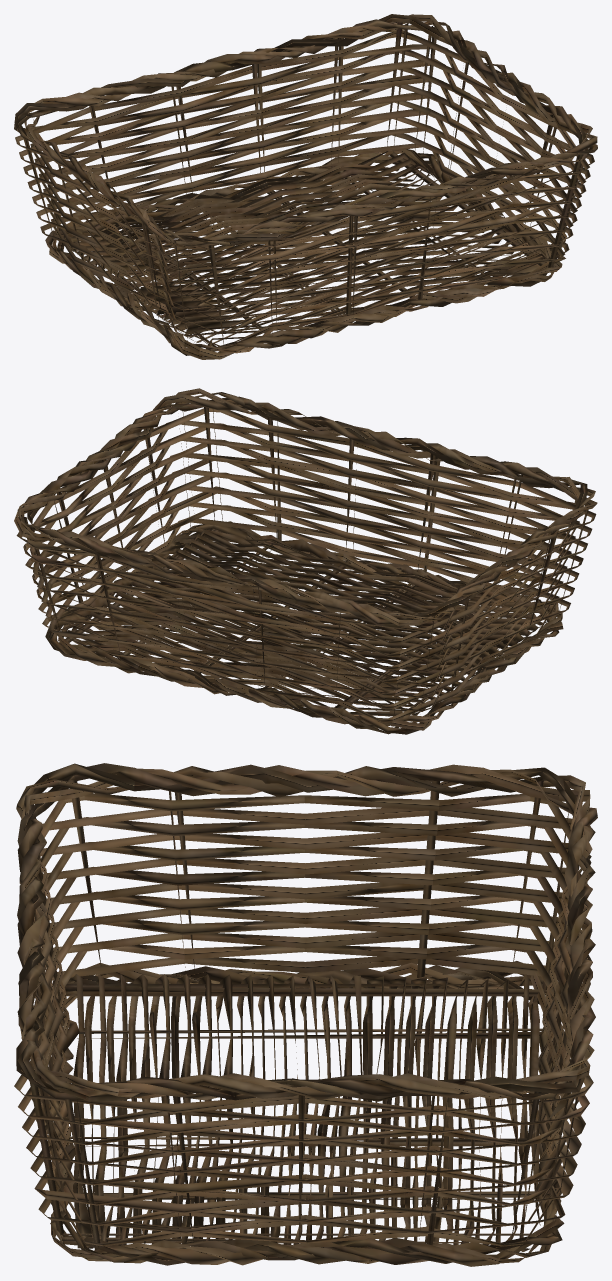
Rendered from wicker_basket_01.glb.
The picture shows the model from 3 angles, top to bottom: view 1: azimuth 30°, elevation 25°; view 2: azimuth 150°, elevation 25°; view 3: azimuth 270°, elevation 25°; orthographic projection. The views are drawn at different scales.
Visible parts, largest first — view 1: wicker_basket_01; view 2: wicker_basket_01; view 3: wicker_basket_01.
Boxes of the visible parts, left/top/right/bottom form: wicker_basket_01: left=14, top=14, right=597, bottom=359; wicker_basket_01: left=14, top=388, right=597, bottom=734; wicker_basket_01: left=14, top=763, right=597, bottom=1266.
Size of the model in its own units: 0.383 by 0.1174 by 0.2939.
1 material, 1 textured.
